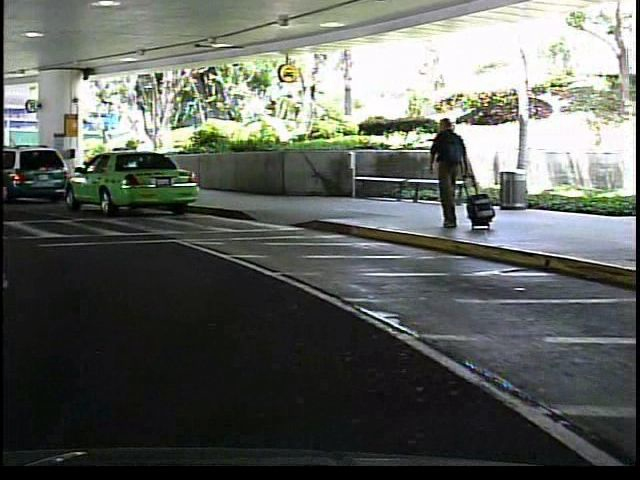person: (421, 113, 474, 240)
